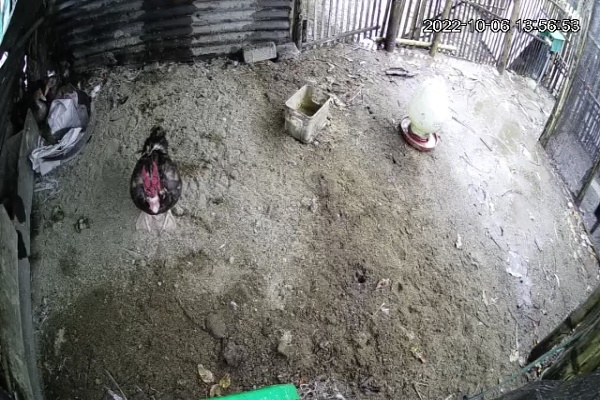Entog: (126, 114, 187, 242)
